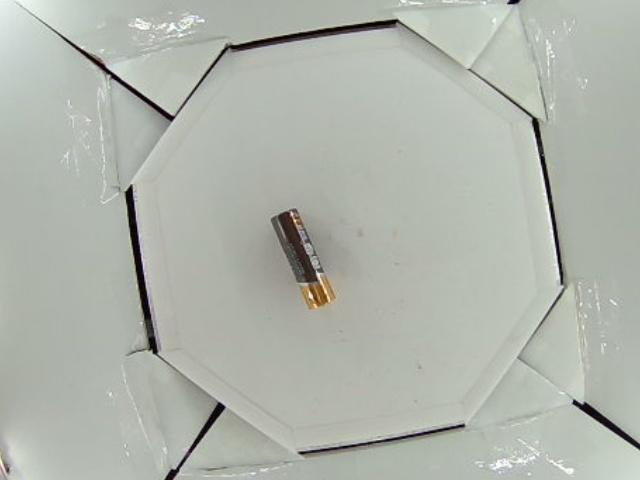Battery: (271, 209, 337, 310)
